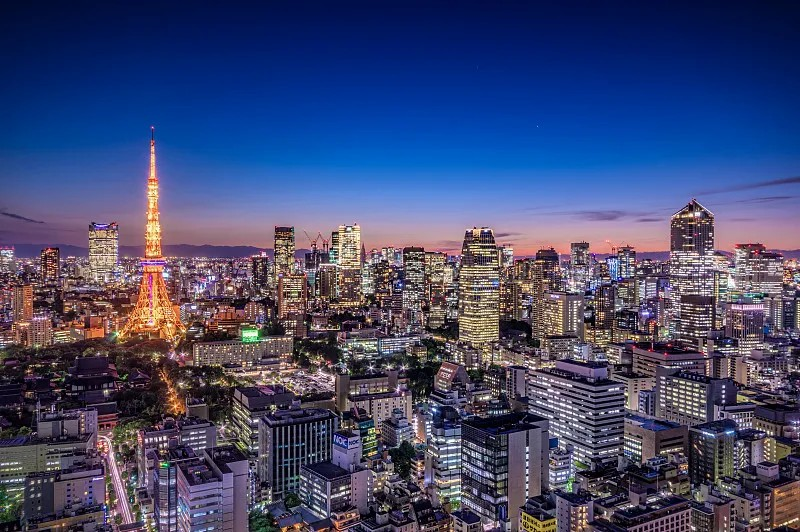Tokyo: (120, 122, 184, 347)
